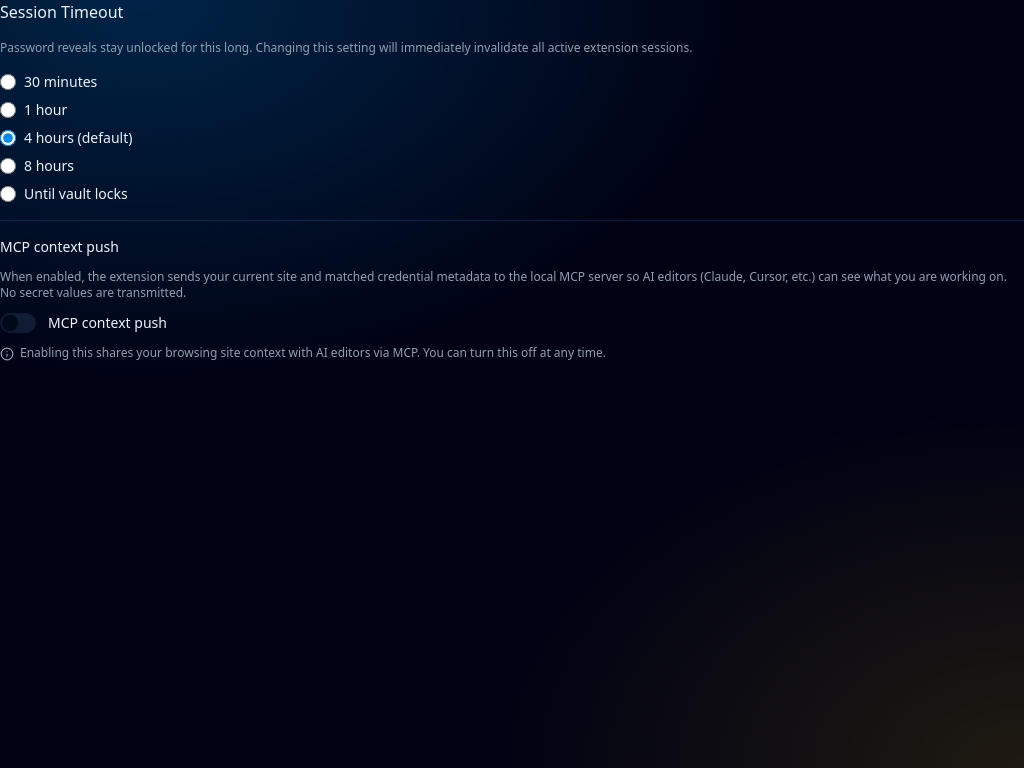
Scenario: ExtensionSettings › 다른 TTL 옵션 클릭 시 confirm dialog 가 나타난다
The width and height of the screenshot is (1024, 768).
"30 minutes" 라디오 클릭
Click the radio button labelled "30 minutes". click: (8, 82)
box: [0,74,16,90]
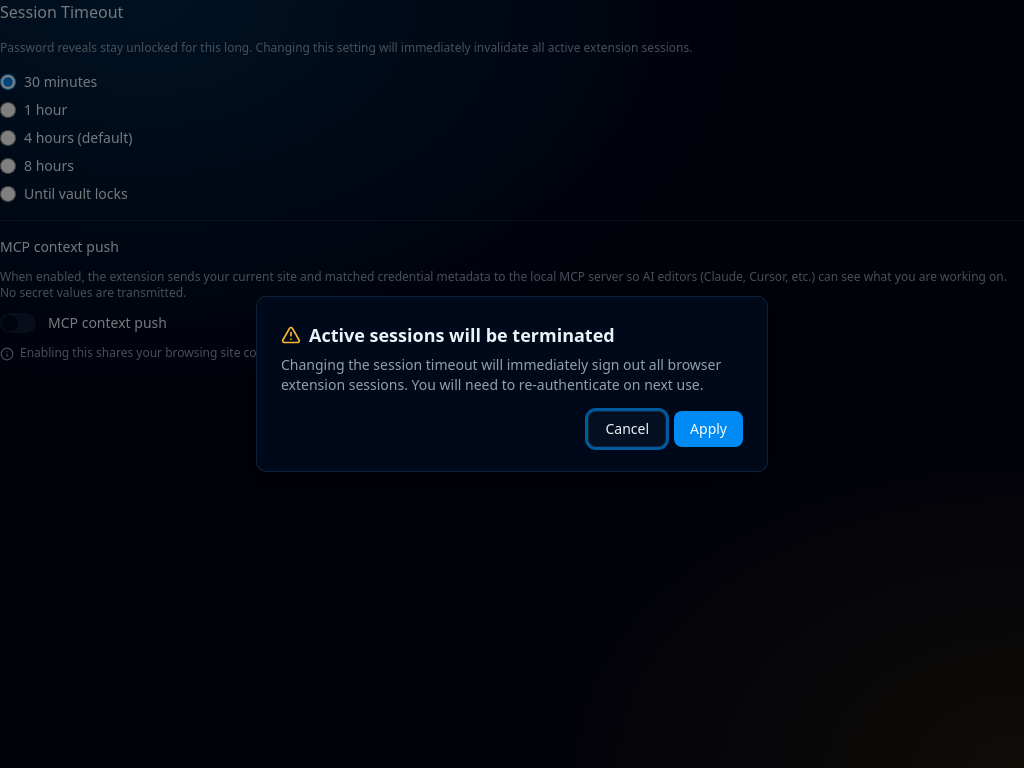
Expected: the dialog is shown, [256,296,768,472]
